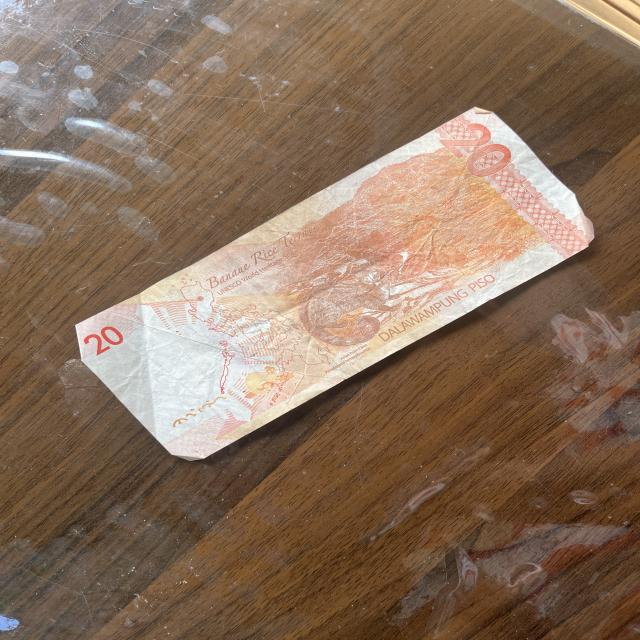20_civet: (296, 264, 414, 347)
20_civet_watermark: (239, 363, 289, 397)
